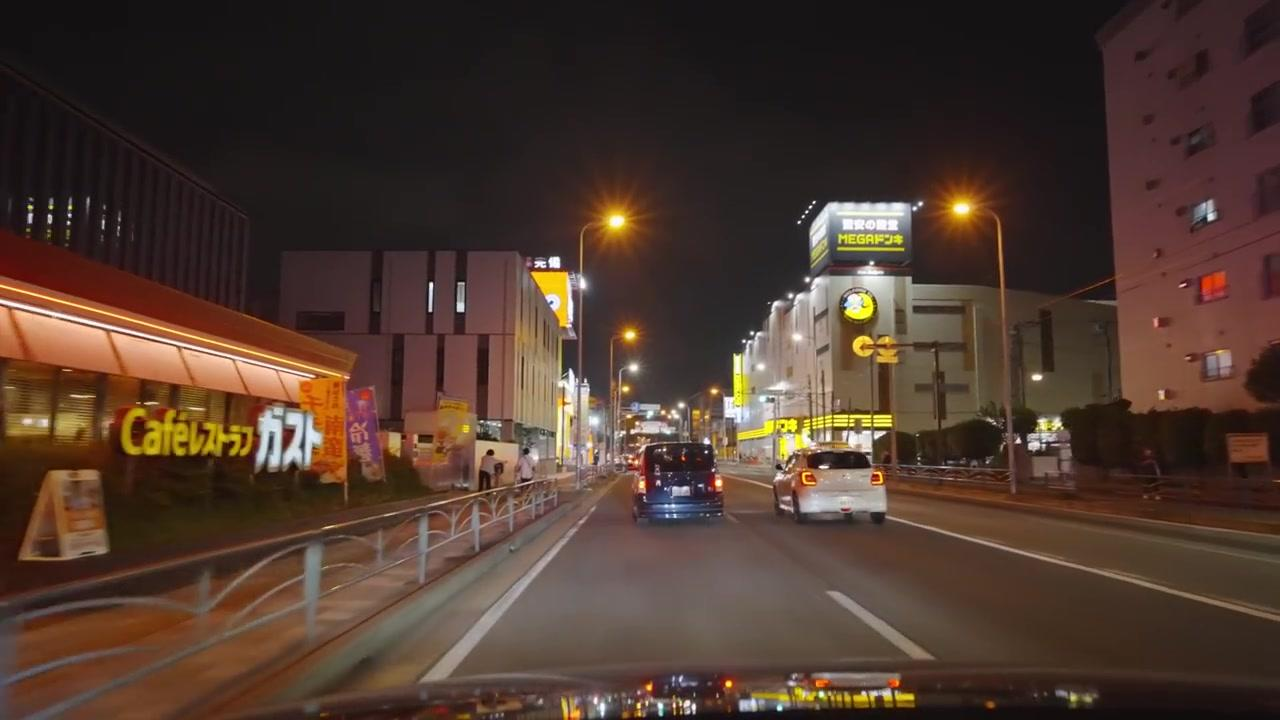car: (772, 447, 888, 525), (630, 439, 725, 526)
person: (1139, 446, 1164, 502), (478, 448, 502, 492), (516, 446, 537, 484)
